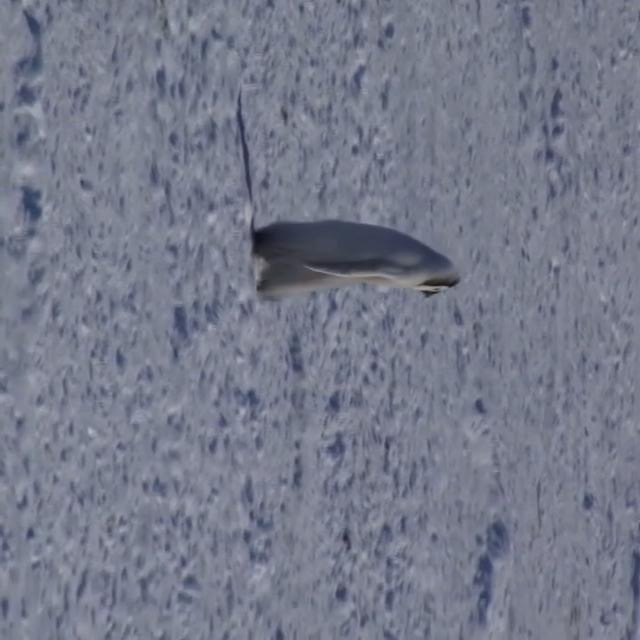penguin: (251, 219, 461, 304)
